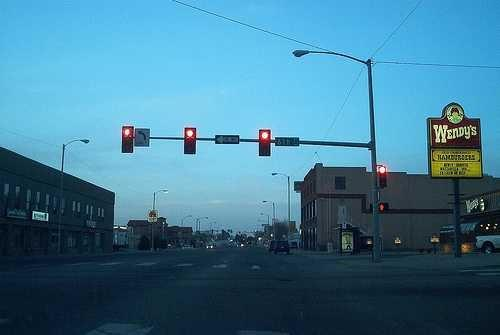red: (184, 127, 196, 154), (122, 125, 132, 154), (259, 129, 270, 155), (121, 124, 131, 137), (260, 129, 271, 140), (185, 128, 194, 140)
